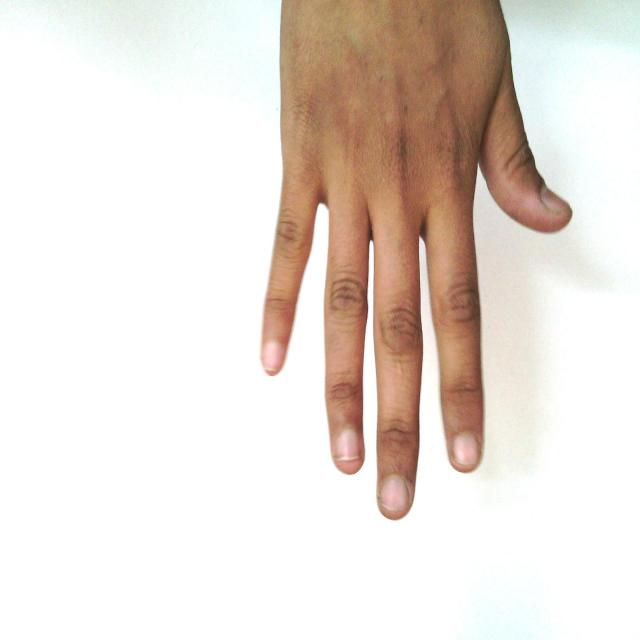others: (254, 0, 576, 535)
